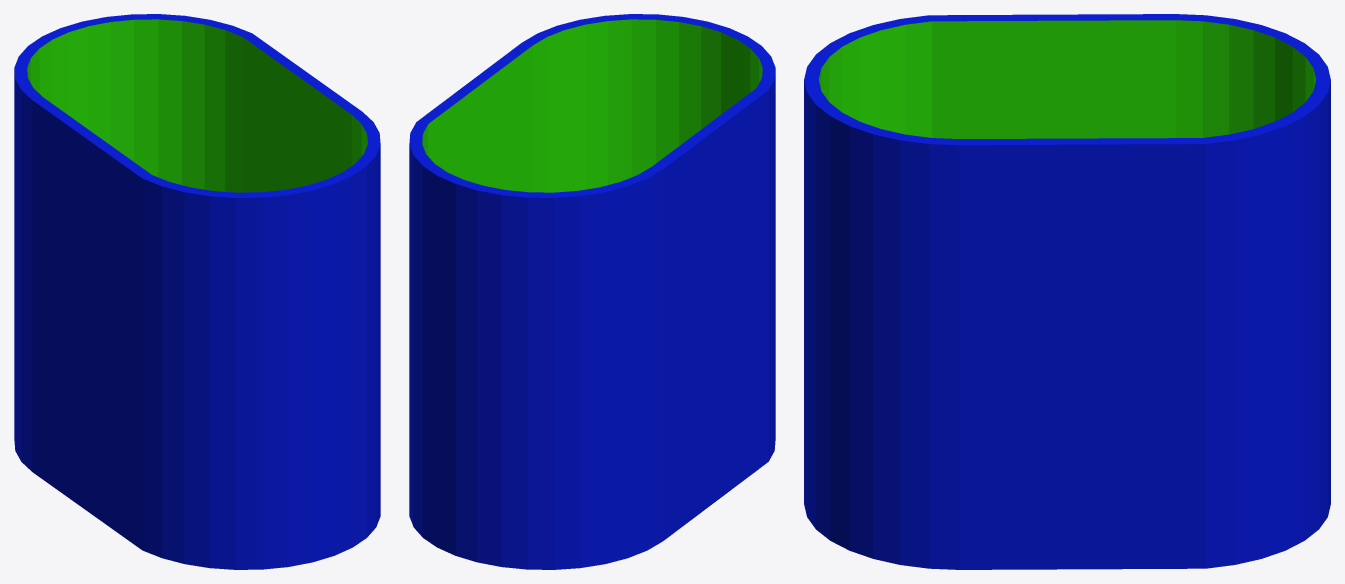
Rendered from diceCup.fbx.
3 views of the same model, side by side, from view 1: azimuth 30°, elevation 25°; view 2: azimuth 150°, elevation 25°; view 3: azimuth 270°, elevation 25° (orthographic). The views are drawn at different scales.
Parts seen in each view (by area): view 1: Cylinder; view 2: Cylinder; view 3: Cylinder.
Part boxes in pixels (bbox=[...]): Cylinder: bbox=[14, 14, 380, 569]; Cylinder: bbox=[409, 14, 775, 569]; Cylinder: bbox=[804, 14, 1330, 569].
Bounding box in the file's own units: 200 × 302 × 339.
